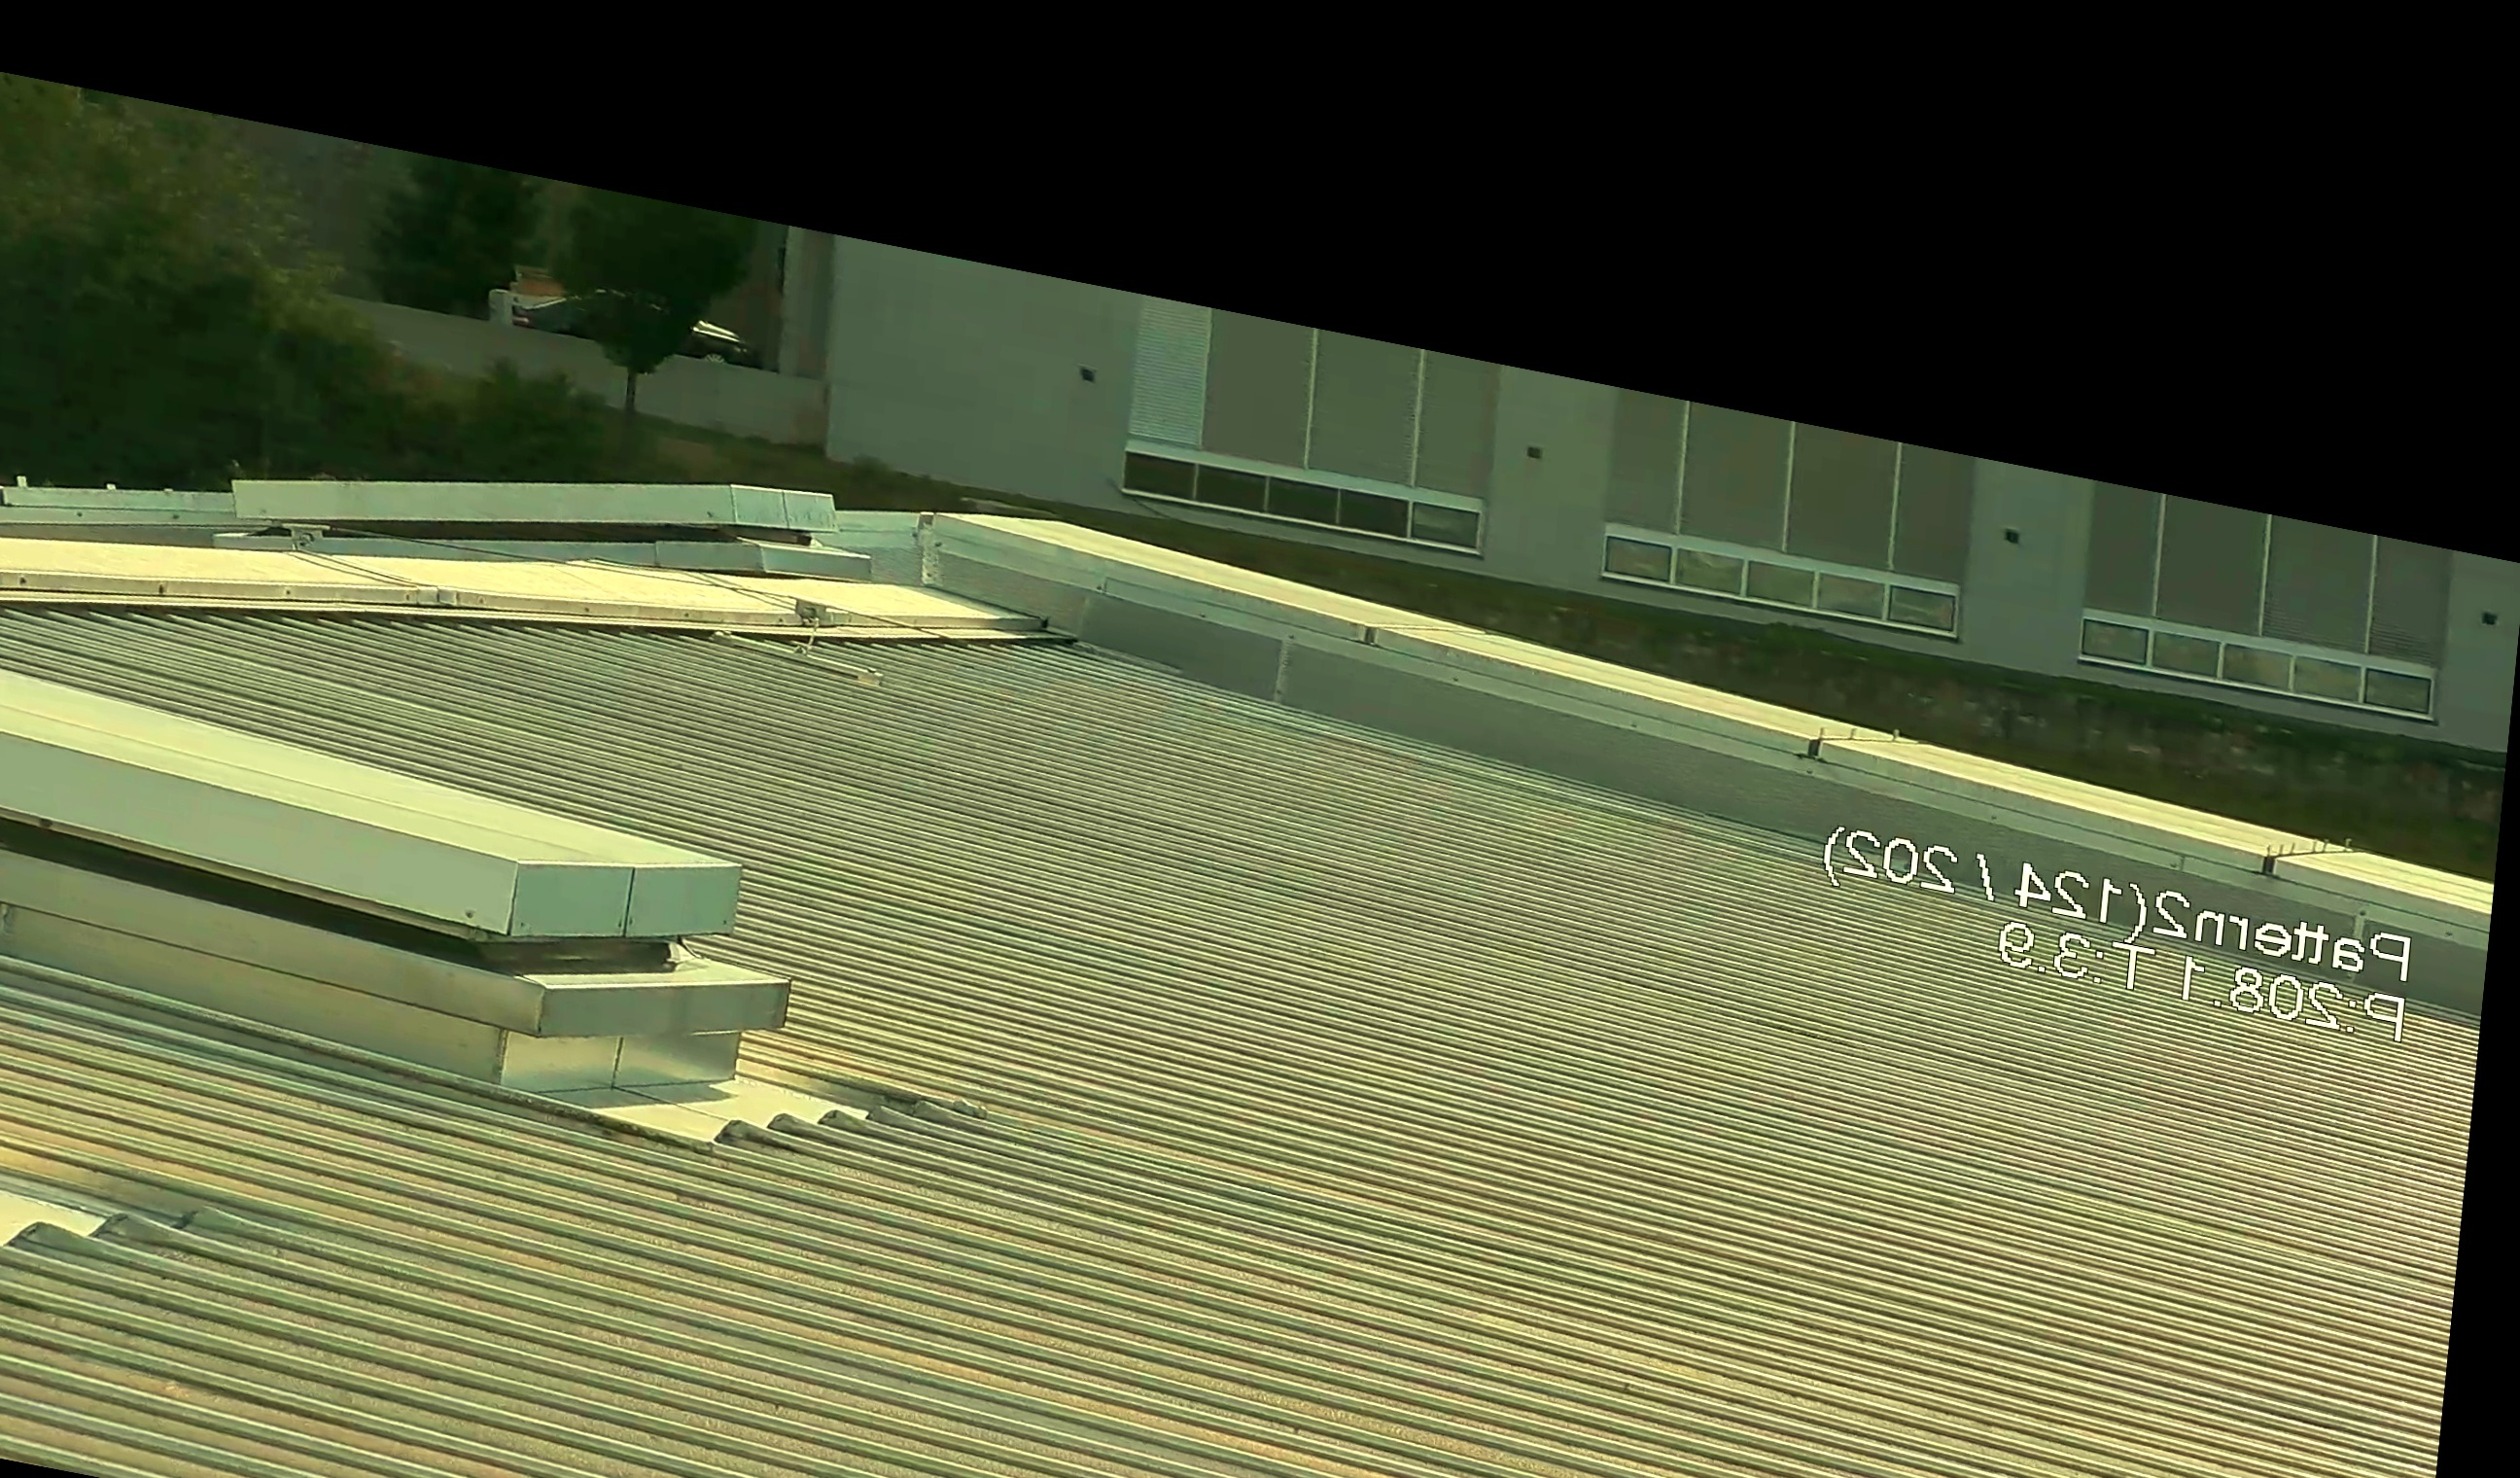Other: (466, 239, 742, 422)
